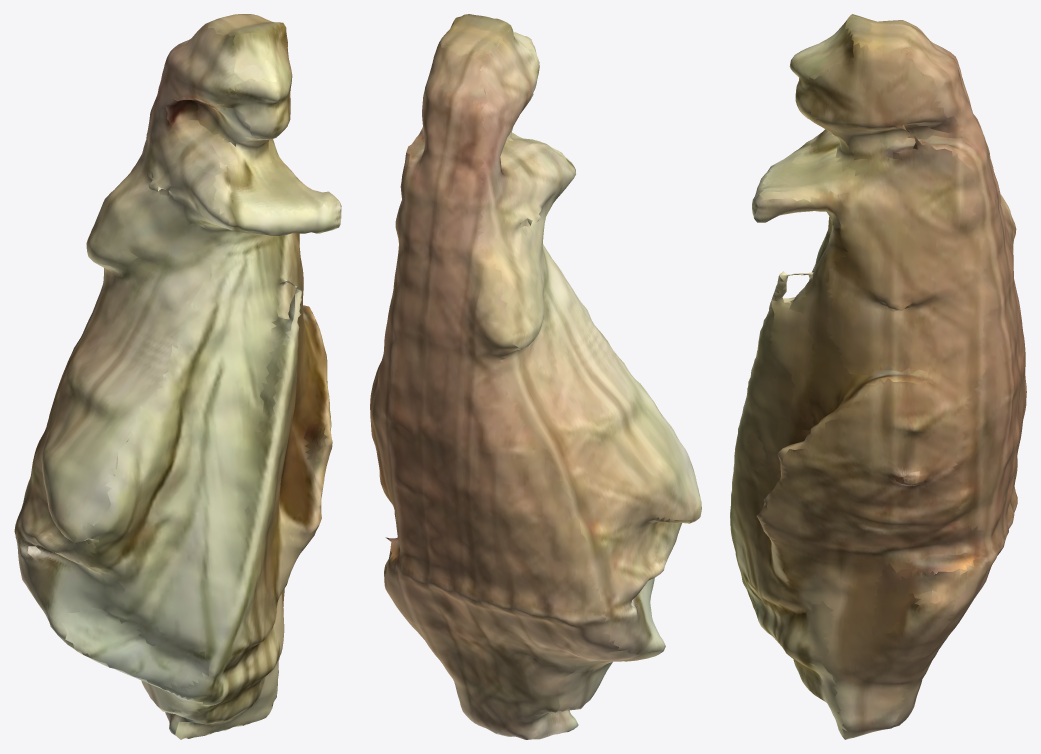
The model's file is Minerva.glb.
3 views of the same model, side by side, from view 1: azimuth 30°, elevation 25°; view 2: azimuth 150°, elevation 25°; view 3: azimuth 270°, elevation 25° (orthographic). The views are drawn at different scales.
Visible parts, largest first — view 1: minerva_Figurehead; view 2: minerva_Figurehead; view 3: minerva_Figurehead.
Boxes of the visible parts, x1=… form: minerva_Figurehead: x1=14, y1=14, x2=341, y2=739; minerva_Figurehead: x1=370, y1=14, x2=701, y2=739; minerva_Figurehead: x1=730, y1=14, x2=1026, y2=739.
Bounding box in the file's own units: 0.9543 × 2.2 × 0.8254.
Materials: 1 (1 with a texture image).
